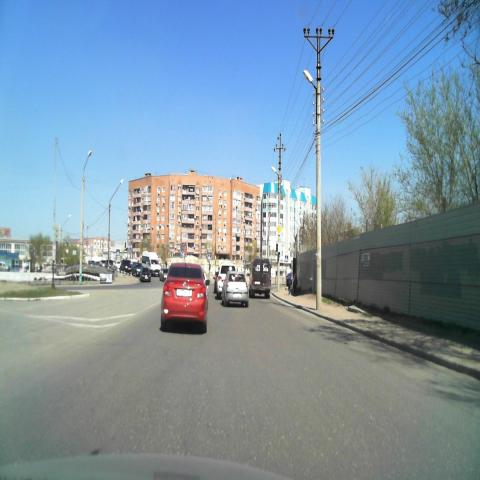2_1: (276, 223, 283, 235)
